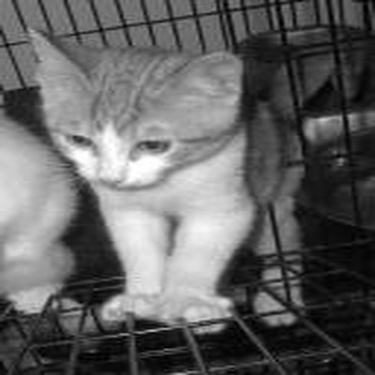cat: (19, 27, 323, 342), (3, 67, 77, 326)
